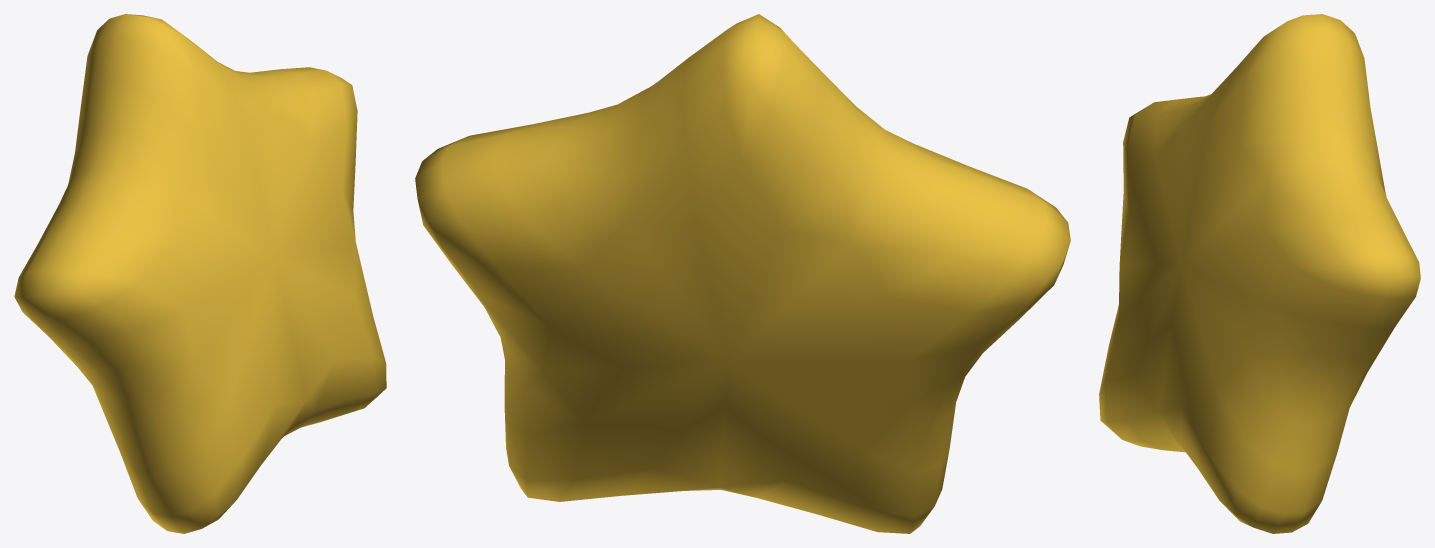
The model's file is star2.glb.
The picture shows the model from 3 angles, left to right: view 1: azimuth 30°, elevation 25°; view 2: azimuth 150°, elevation 25°; view 3: azimuth 270°, elevation 25°; orthographic projection. The views are drawn at different scales.
Parts seen in each view (by area): view 1: Circle.004; view 2: Circle.004; view 3: Circle.004.
Boxes of the visible parts, bbox=[...] form: Circle.004: bbox=[14, 14, 386, 533]; Circle.004: bbox=[415, 14, 1070, 533]; Circle.004: bbox=[1099, 14, 1420, 533].
Bounding box in the file's own units: 2.01 × 2.06 × 1.35.
